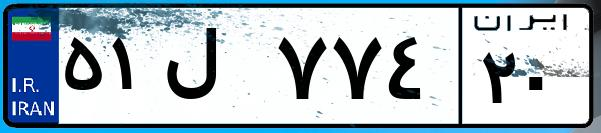0: (525, 38, 570, 115)
1: (110, 28, 158, 98)
2: (475, 38, 525, 113)
4: (385, 28, 445, 110)
5: (57, 26, 110, 100)
7: (270, 28, 330, 110), (330, 28, 385, 110)
ل: (158, 20, 270, 120)
